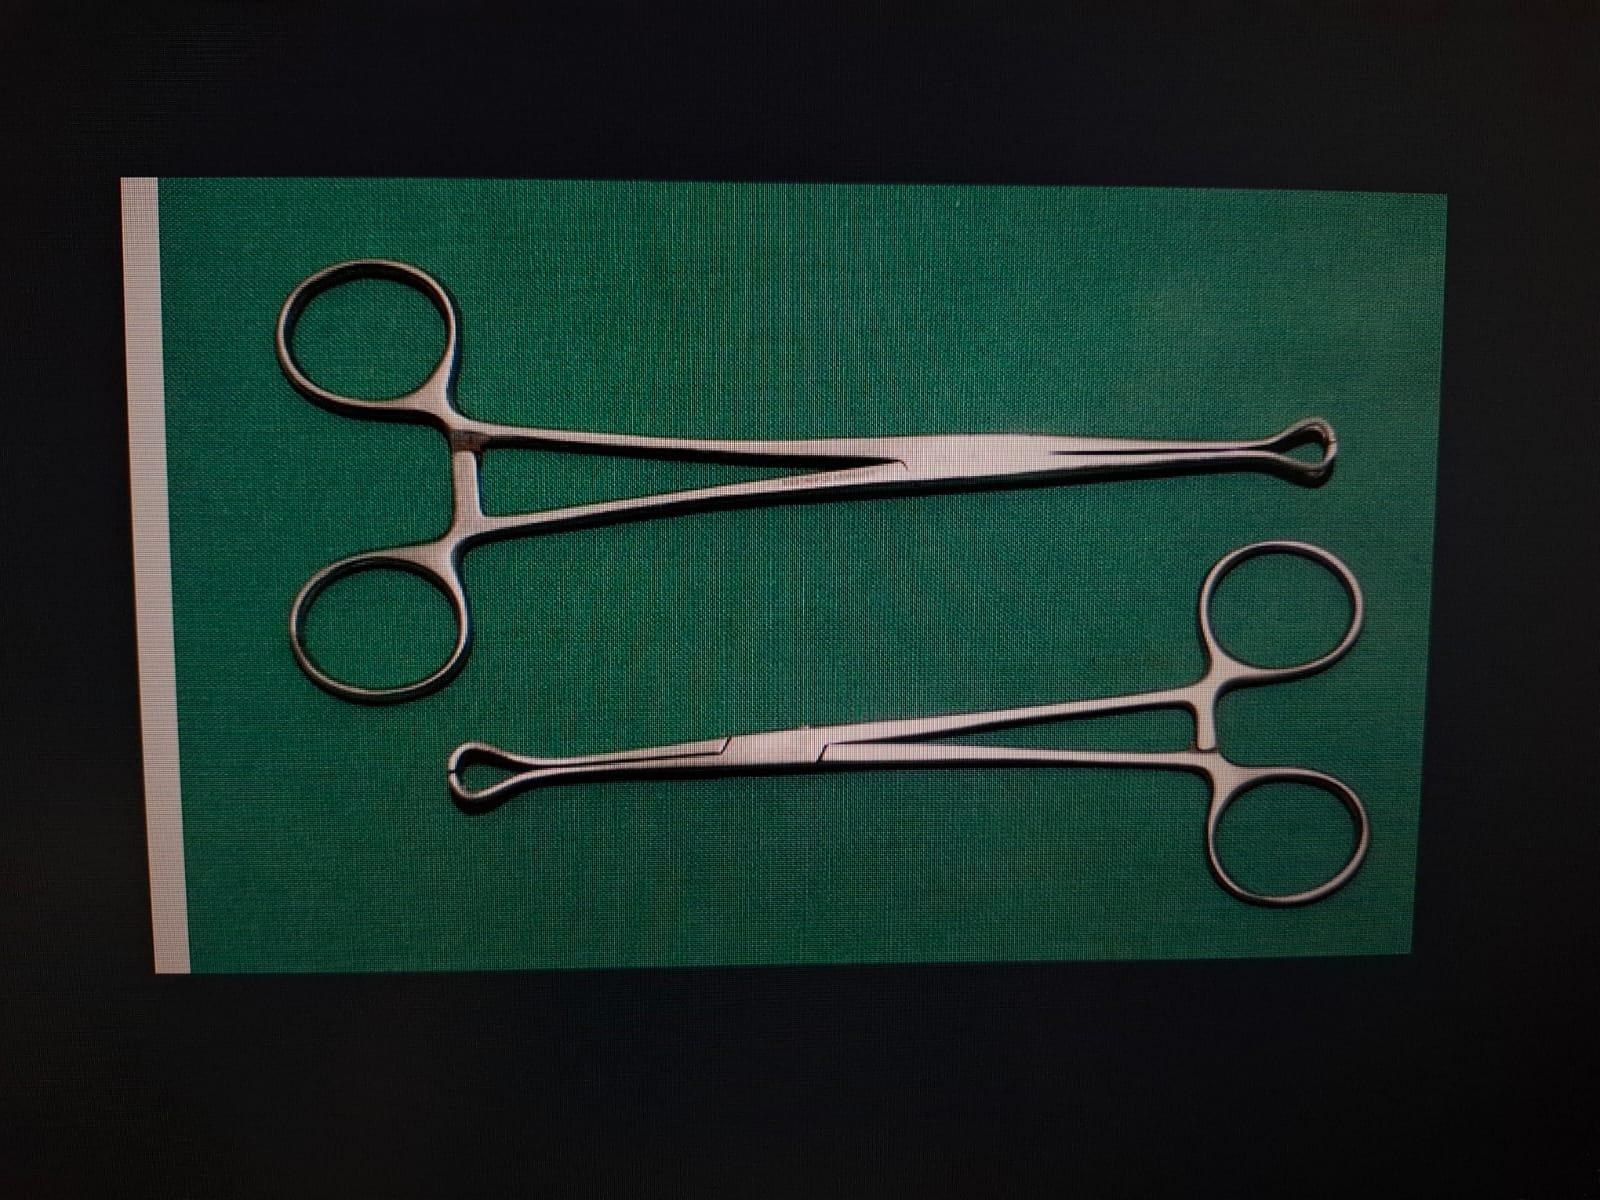Babcock Forceps: (260, 236, 1344, 704), (438, 538, 1392, 920)
